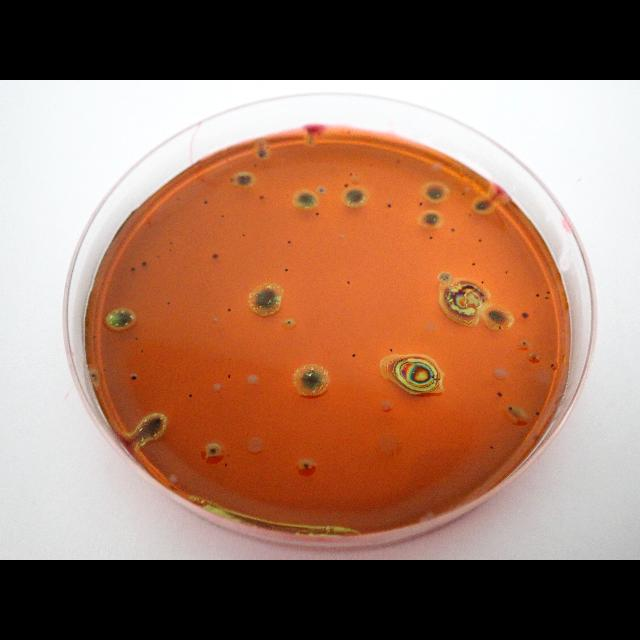colony: (379, 354, 445, 398), (443, 280, 489, 322), (292, 362, 332, 398), (246, 282, 284, 318), (134, 412, 168, 446), (104, 308, 136, 329), (296, 191, 316, 209), (344, 188, 366, 204), (426, 184, 444, 202), (488, 308, 508, 324), (422, 212, 441, 226), (235, 172, 252, 186), (474, 199, 491, 211), (438, 270, 452, 282), (256, 148, 268, 160), (283, 318, 295, 328), (300, 461, 312, 471), (208, 446, 218, 456), (90, 370, 98, 382), (316, 186, 326, 194), (202, 198, 210, 206), (228, 176, 236, 184), (211, 251, 219, 259), (306, 140, 316, 146), (130, 375, 138, 381), (521, 312, 529, 318), (394, 159, 402, 165), (508, 405, 514, 413), (258, 193, 264, 200), (352, 178, 358, 185), (253, 162, 259, 168), (220, 213, 226, 219), (168, 240, 174, 246), (130, 266, 136, 272), (497, 391, 503, 397), (226, 307, 232, 313), (176, 196, 180, 202), (242, 232, 246, 238), (168, 248, 172, 254), (141, 262, 147, 266), (140, 348, 144, 354), (224, 462, 228, 468), (490, 444, 494, 450), (536, 410, 540, 416), (550, 362, 554, 368), (522, 340, 526, 346), (535, 292, 539, 298), (544, 296, 550, 300), (478, 238, 482, 244), (462, 190, 466, 196), (344, 182, 348, 188), (314, 212, 320, 216), (227, 373, 231, 379), (351, 352, 355, 358), (346, 280, 350, 286), (156, 254, 160, 258), (167, 301, 171, 305), (135, 337, 139, 341), (188, 394, 192, 398), (546, 291, 550, 295), (498, 326, 502, 330), (472, 262, 476, 266), (468, 213, 472, 217), (451, 228, 455, 232), (419, 202, 423, 206), (387, 204, 391, 208), (348, 172, 352, 176), (287, 240, 291, 244), (284, 268, 288, 272), (389, 348, 393, 352), (104, 368, 106, 372), (482, 280, 484, 284), (506, 270, 508, 274), (430, 236, 432, 240)
